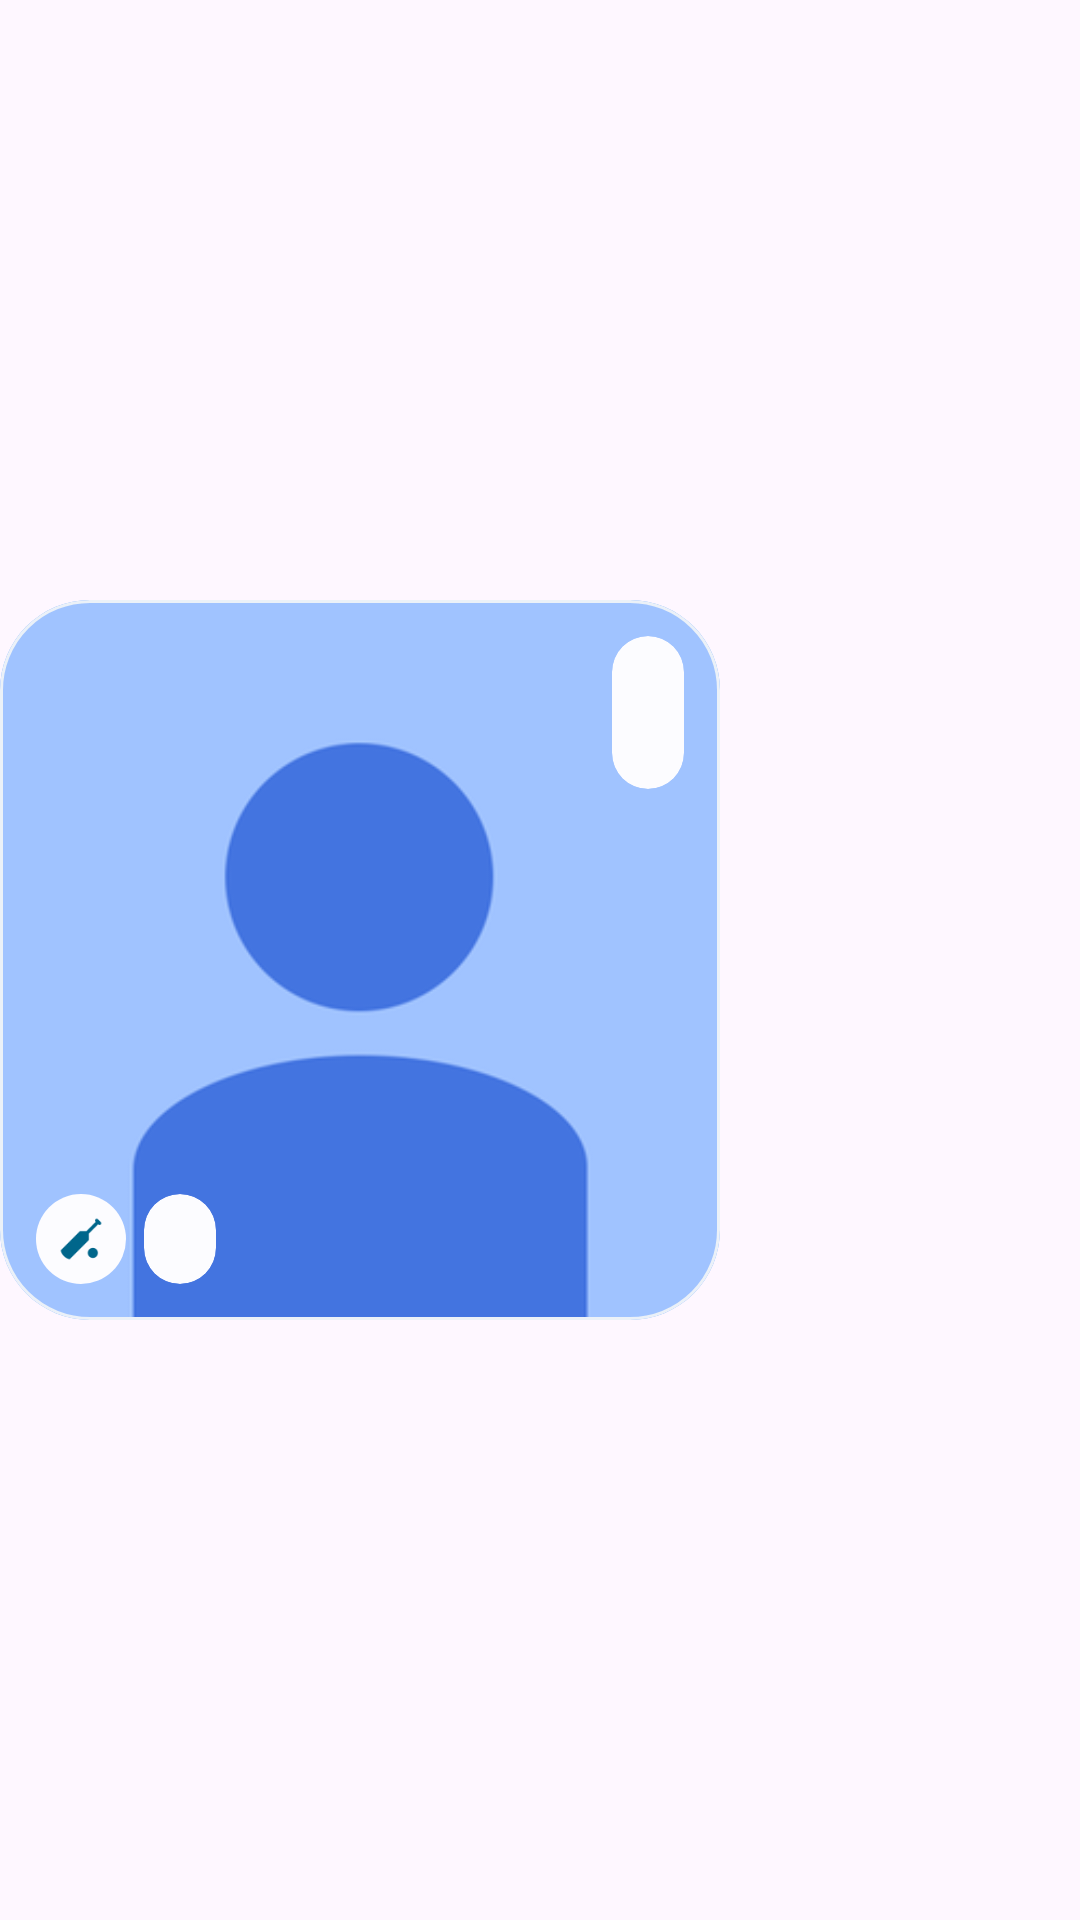

Point at icon controls on the screen. Image size 1080px x 1920px, points as (x=x, y=y).
bat ball: (x=81, y=1239)
